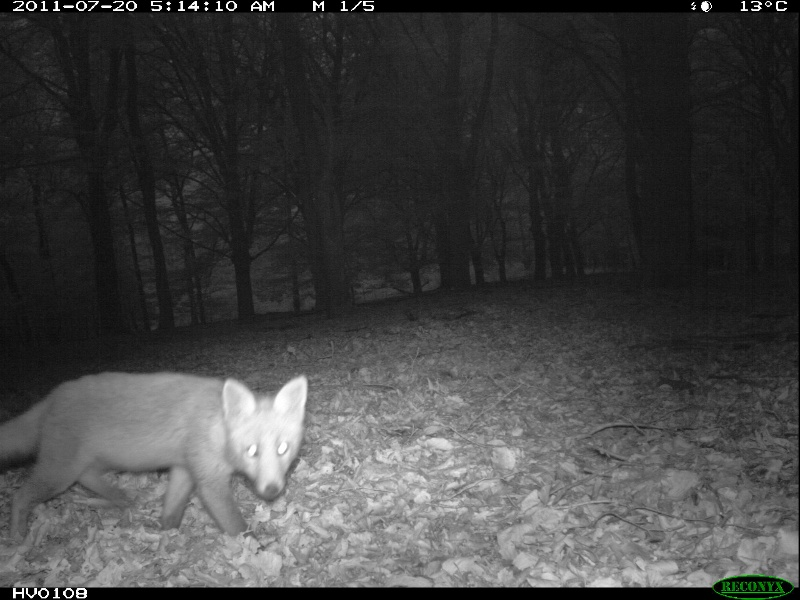fox: (1, 362, 319, 546)
